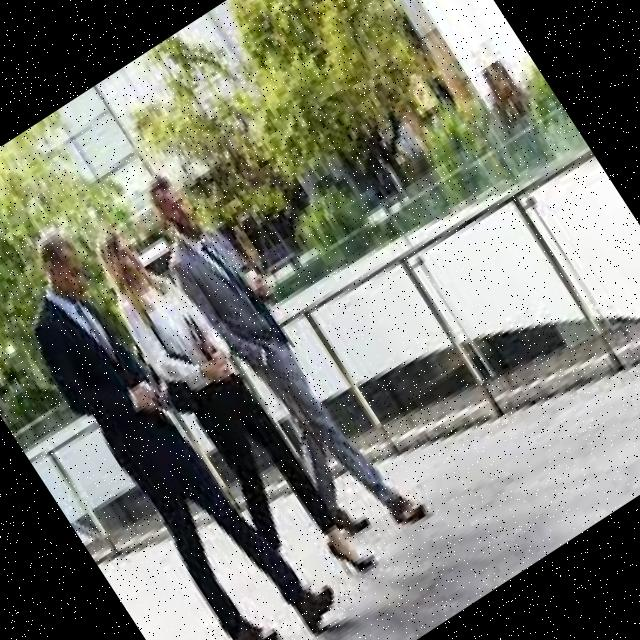Person: (0, 208, 348, 640), (115, 150, 432, 565), (72, 203, 376, 606)
